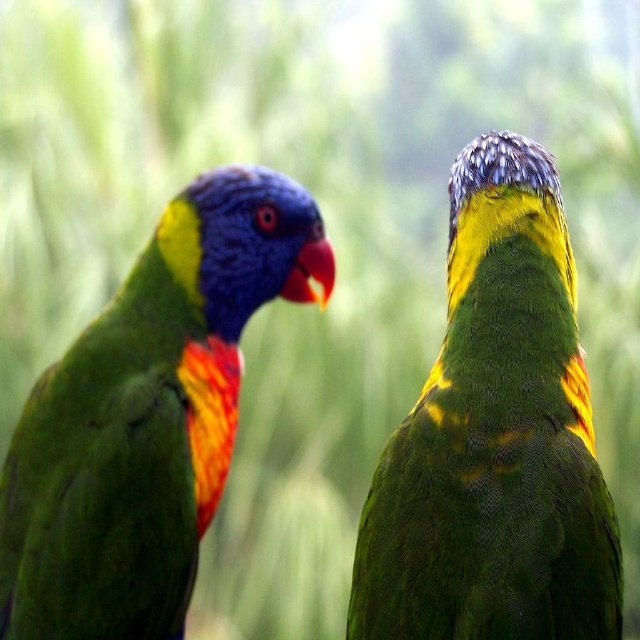Parrot: (0, 162, 337, 639), (346, 123, 628, 639)
